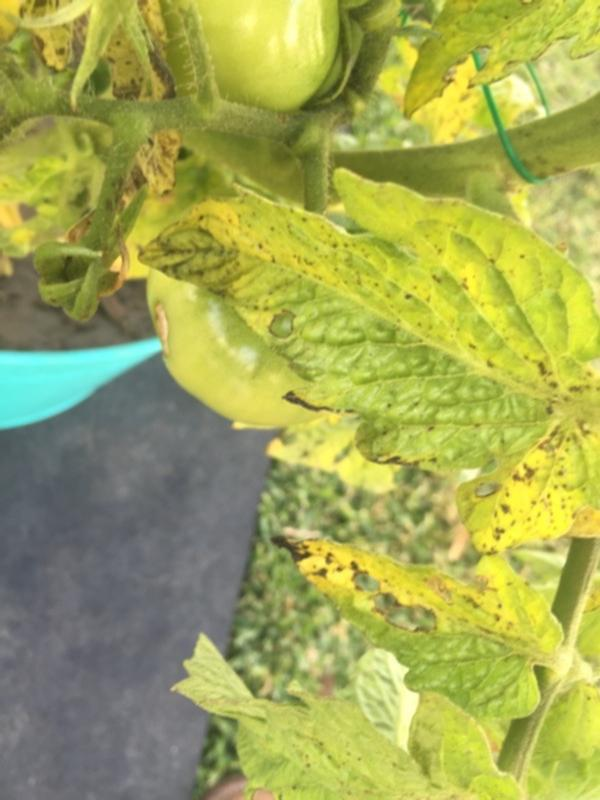Tomato Septoria leaf spot: (138, 176, 597, 548)
